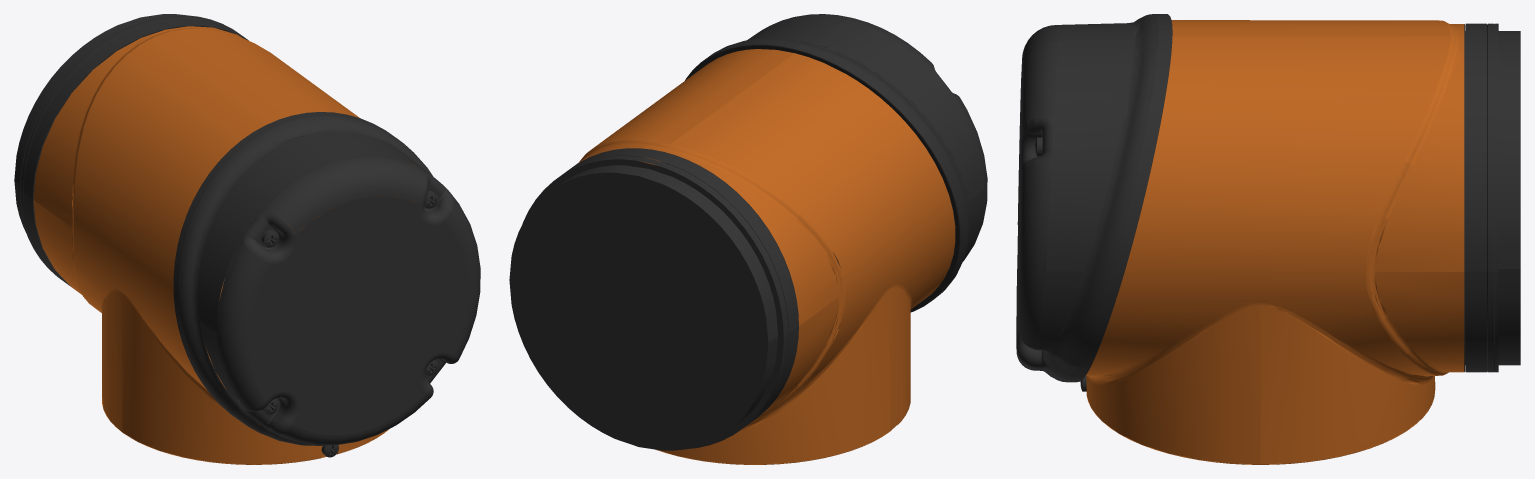
3 renders of one model, left to right at view 1: azimuth 30°, elevation 25°; view 2: azimuth 150°, elevation 25°; view 3: azimuth 270°, elevation 25°, orthographic. The views are drawn at different scales.
Parts seen in each view (by area): view 1: mesh; view 2: mesh; view 3: mesh.
Part boxes in pixels (x1=…): mesh: x1=14, y1=14, x2=480, y2=464; mesh: x1=509, y1=14, x2=987, y2=464; mesh: x1=1016, y1=14, x2=1520, y2=464.
Size of the model in its own units: 0.1035 by 0.1416 by 0.1118.
